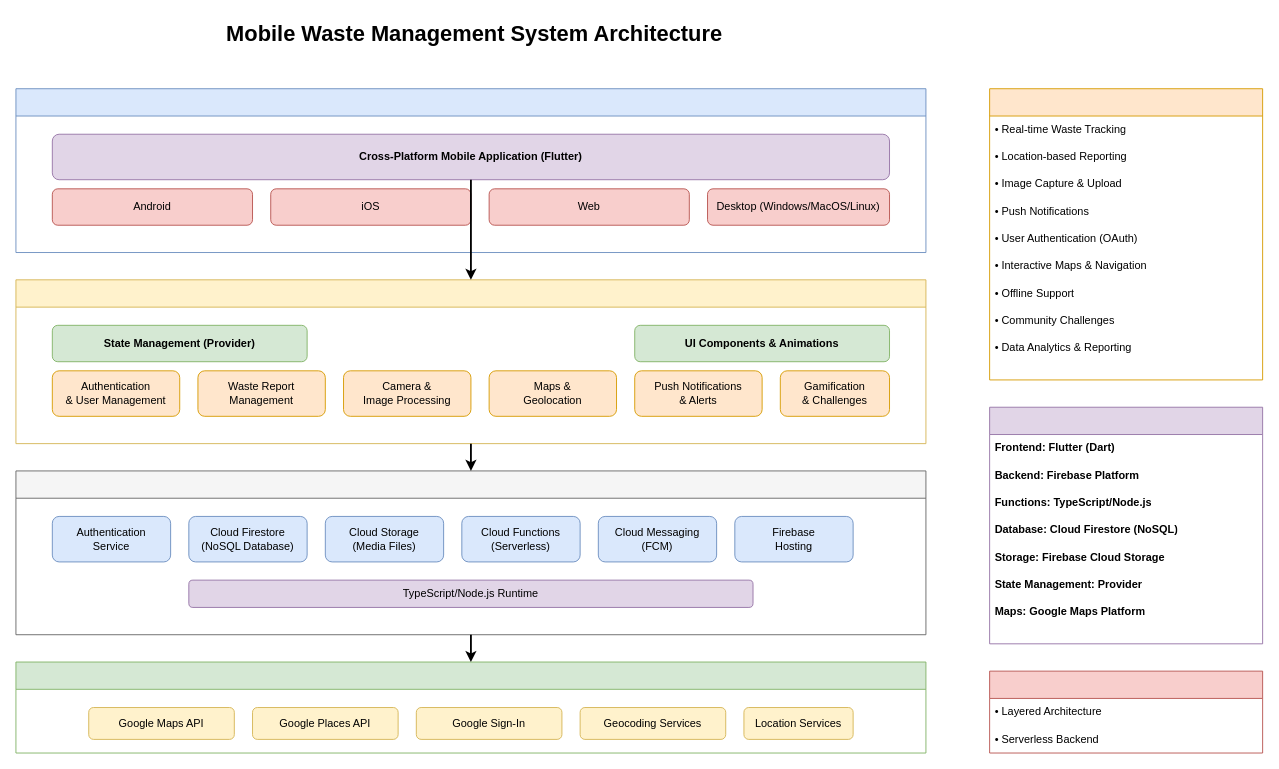
This 1279x769 diagram has some shape labels left out. The box of each missing label's shape, as (x1, y1, x2, y2) in pixels:
APPLICATION LAYER: (15, 279, 926, 444)
ARCHITECTURE PATTERN: (989, 670, 1263, 753)
BACKEND SERVICES (Firebase): (15, 470, 926, 635)
KEY CAPABILITIES: (989, 88, 1263, 380)
PRESENTATION LAYER: (15, 88, 926, 253)
TECHNOLOGY STACK: (989, 406, 1263, 644)
THIRD-PARTY INTEGRATIONS: (15, 661, 926, 753)
